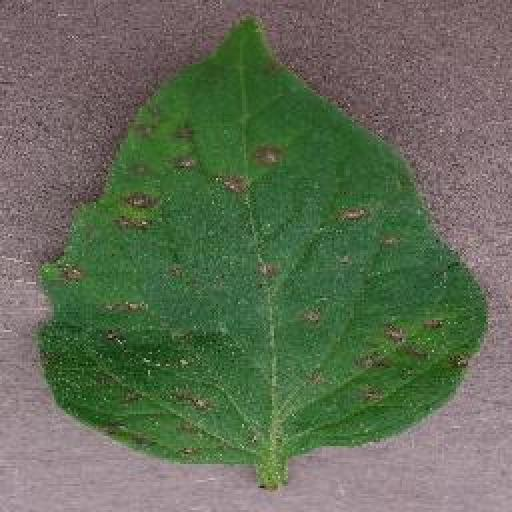Septoria: (39, 12, 491, 464)
